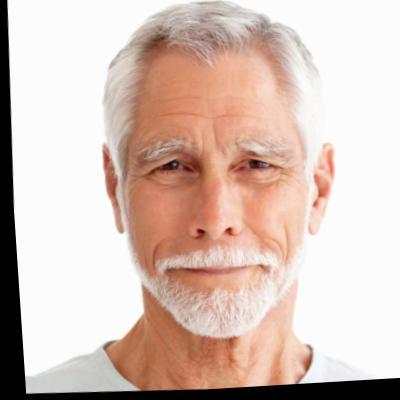sad: (115, 40, 311, 330)
